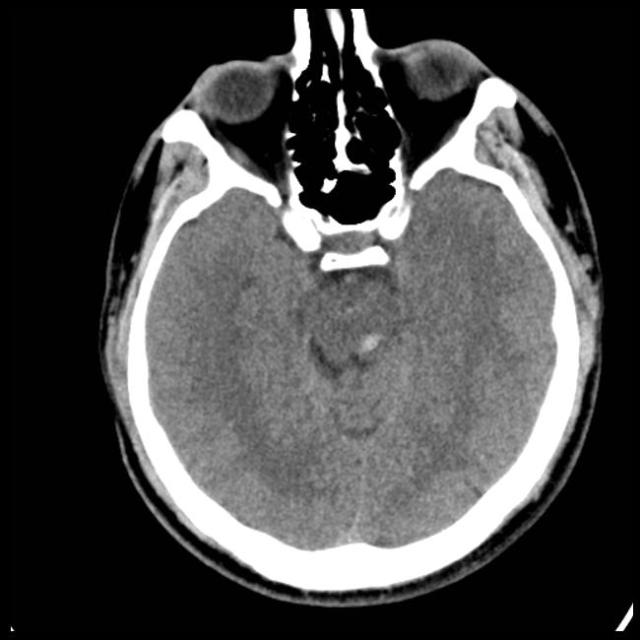lesion: (94, 13, 606, 604)
